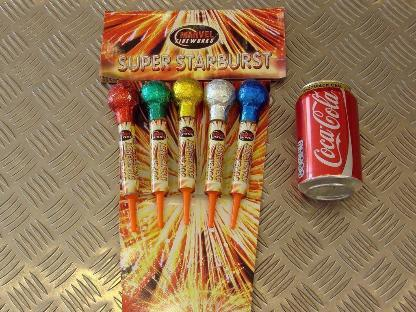Can: (294, 80, 362, 202)
